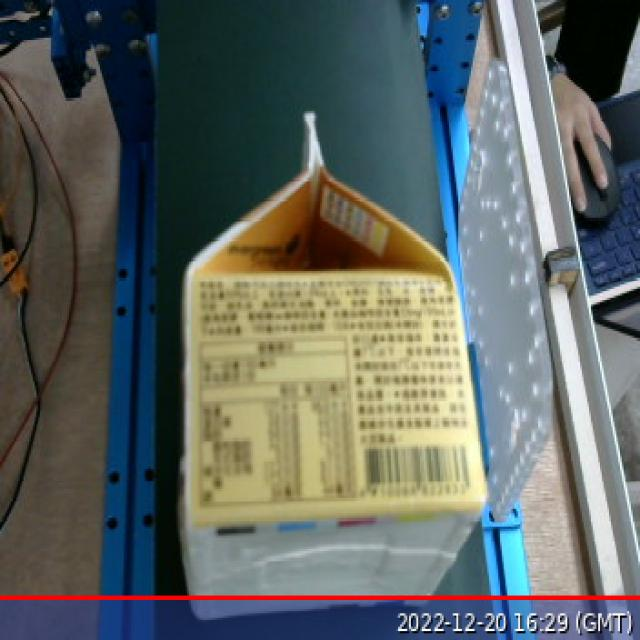non_white_jug: (174, 98, 498, 622)
